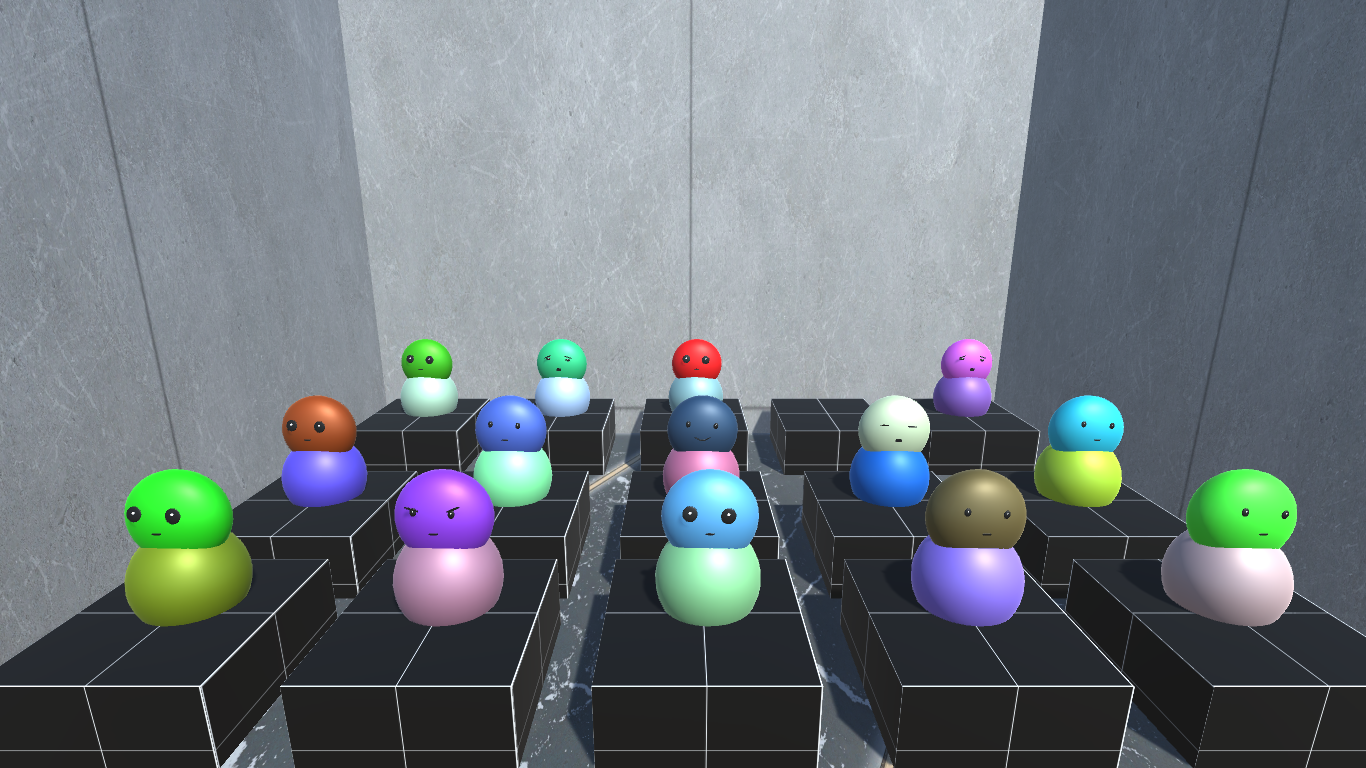blob_atento: (119, 462, 229, 556), (654, 468, 758, 552), (272, 394, 366, 458), (397, 334, 451, 382), (671, 333, 722, 381)
blob_dormindo: (857, 389, 926, 454)
blob_entediado: (939, 334, 996, 383), (536, 334, 590, 384)
blob_feliz: (659, 398, 752, 455)
blob_normal: (1179, 464, 1301, 552), (926, 466, 1039, 547), (1037, 391, 1131, 457), (469, 392, 546, 454)
blob_raiva: (390, 462, 502, 557)
